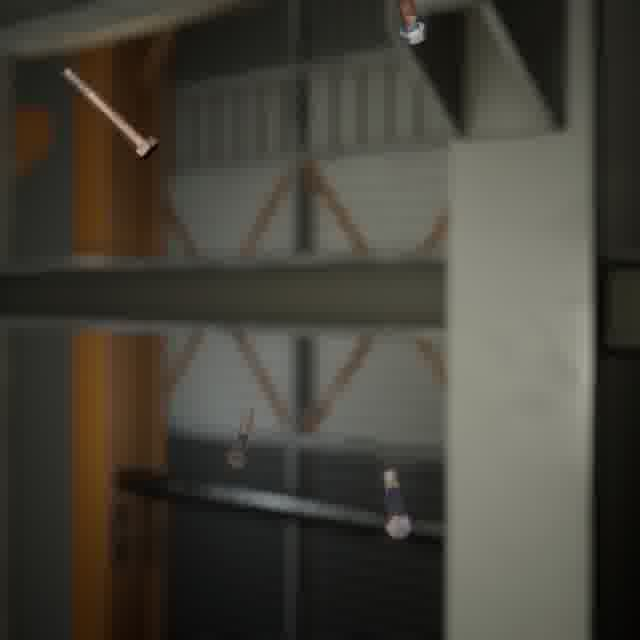bolt: (57, 62, 162, 165), (378, 465, 418, 543), (221, 401, 257, 472), (390, 0, 430, 49)
